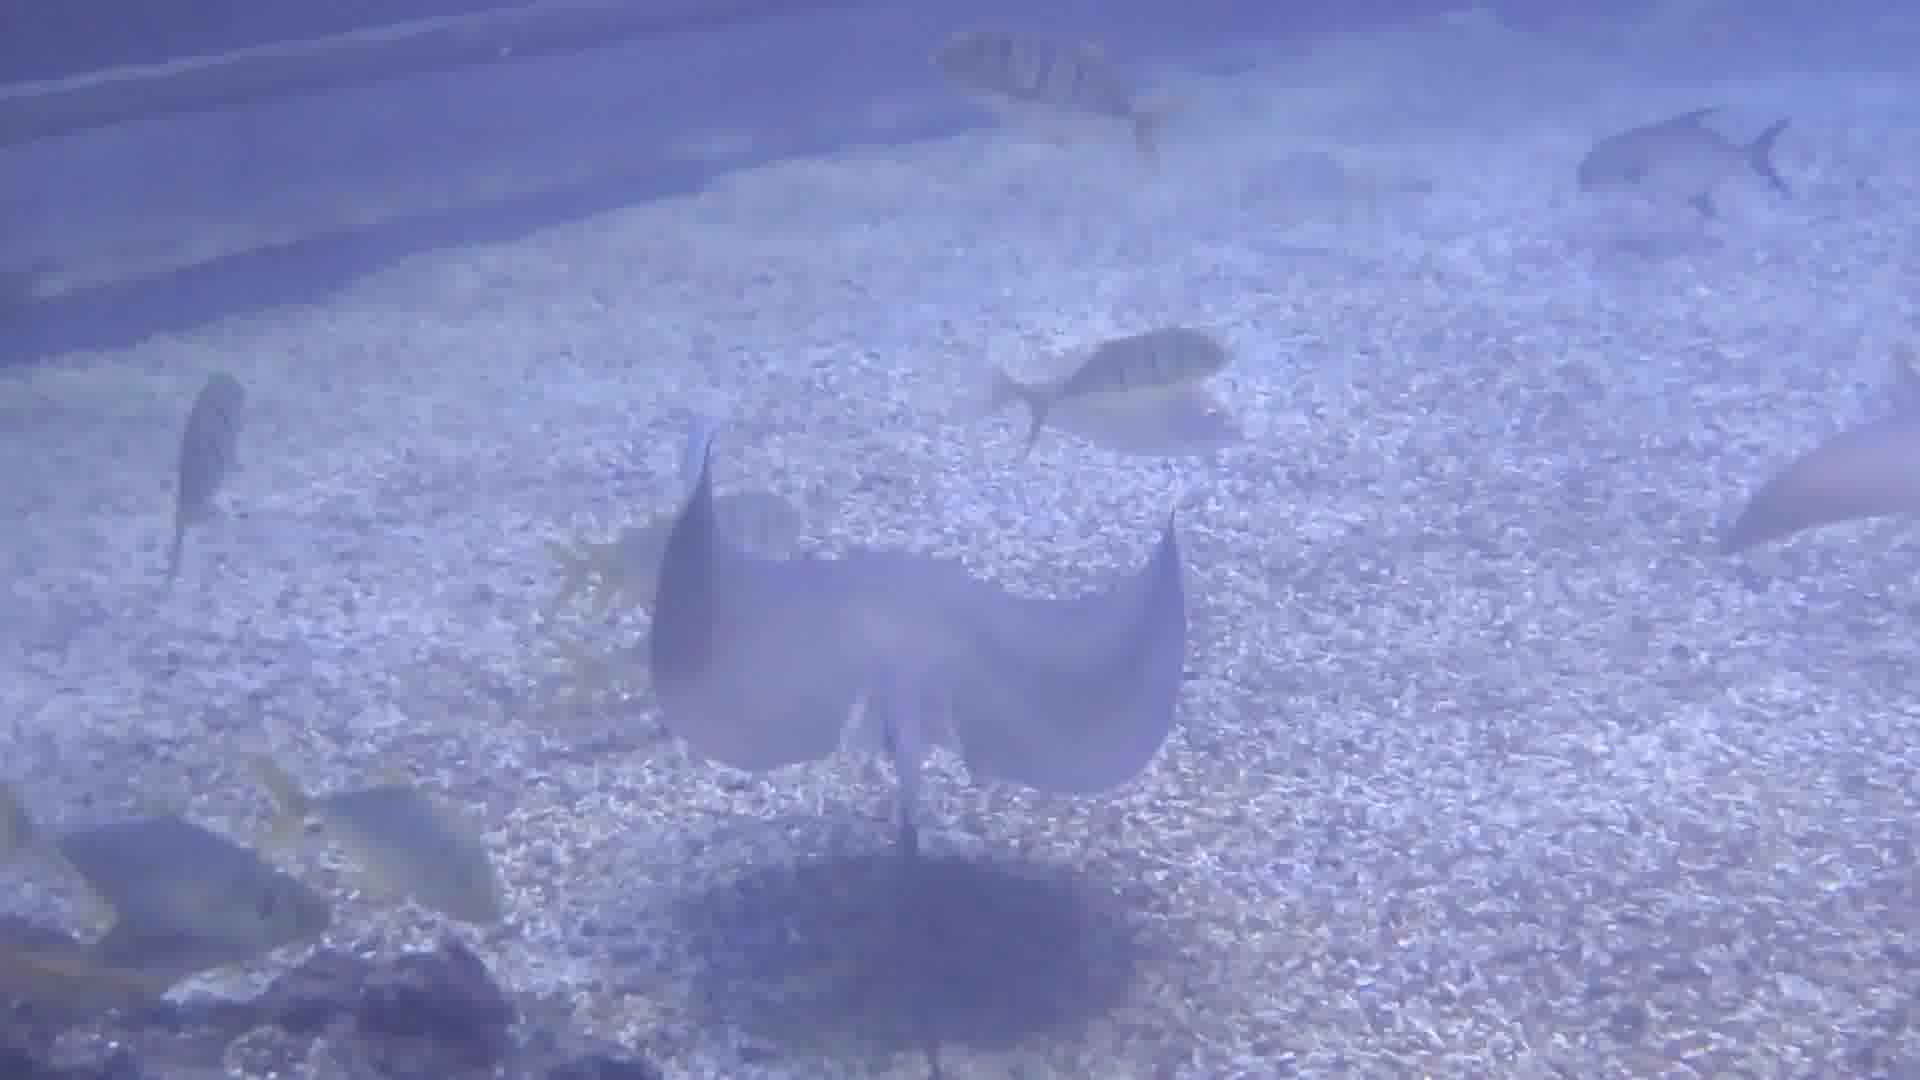Dasyatis akajei: (483, 440, 1308, 1080)
